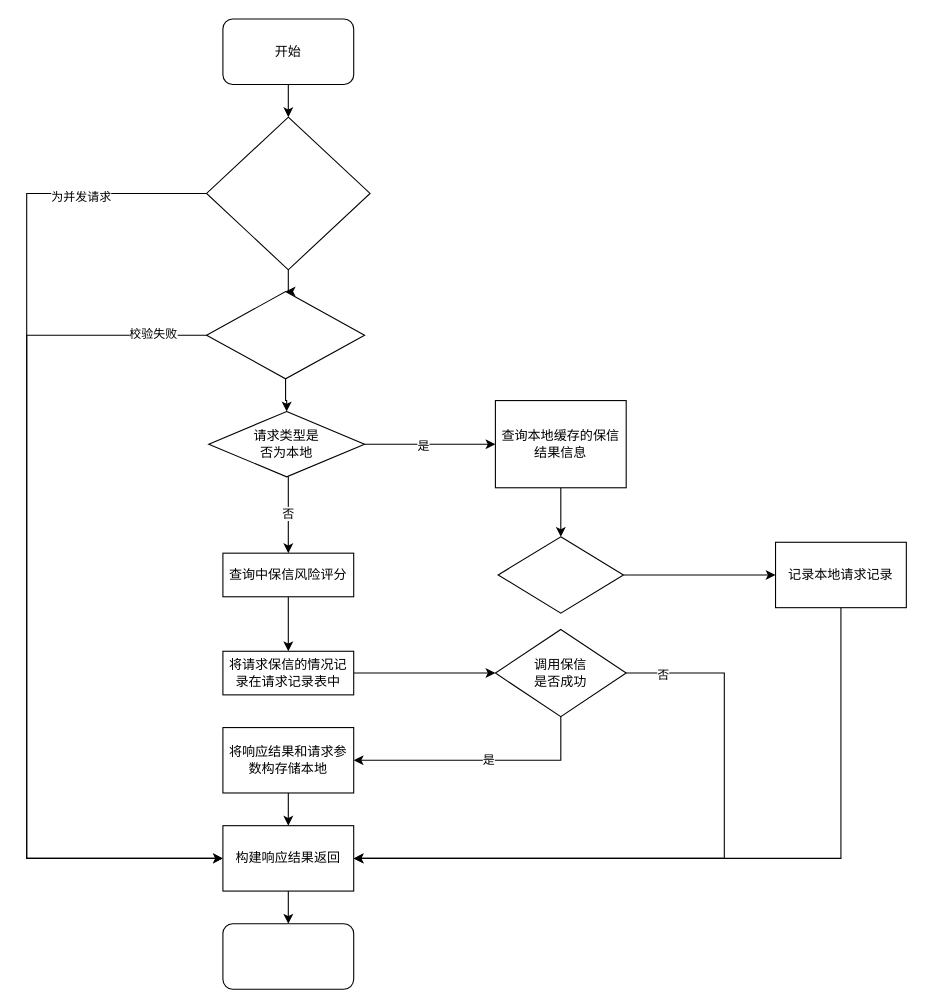
The diagram is 925 pixels wide and 1008 high, and some of its shapes have lost their labels. The centre of each missing label's shape, as x and y in pixels:
1秒内防并发请求, 维度保单号 +被保人证件类型 +被保人证件号码 +被保人姓名: point (287, 193)
是否存在保信 缓存结果: point (560, 574)
结束: point (288, 956)
请求参数校验, 业务校验: point (285, 334)
